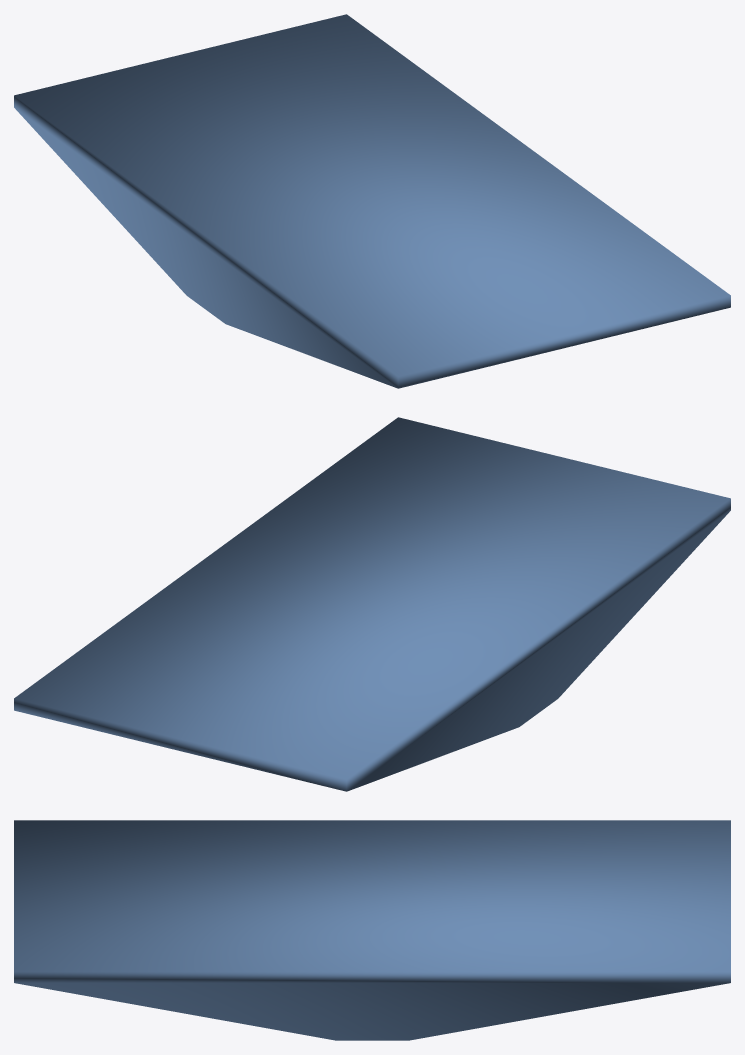
Rendered from paddle.fbx.
The picture shows the model from 3 angles, top to bottom: view 1: azimuth 30°, elevation 25°; view 2: azimuth 150°, elevation 25°; view 3: azimuth 270°, elevation 25°; orthographic projection. The views are drawn at different scales.
Parts seen in each view (by area): view 1: Cube.001; view 2: Cube.001; view 3: Cube.001.
Part boxes in pixels (x1=…): Cube.001: x1=14, y1=14, x2=730, y2=388; Cube.001: x1=14, y1=417, x2=730, y2=791; Cube.001: x1=14, y1=820, x2=730, y2=1040.
Bounding box in the file's own units: 200 × 400 × 42.44.
